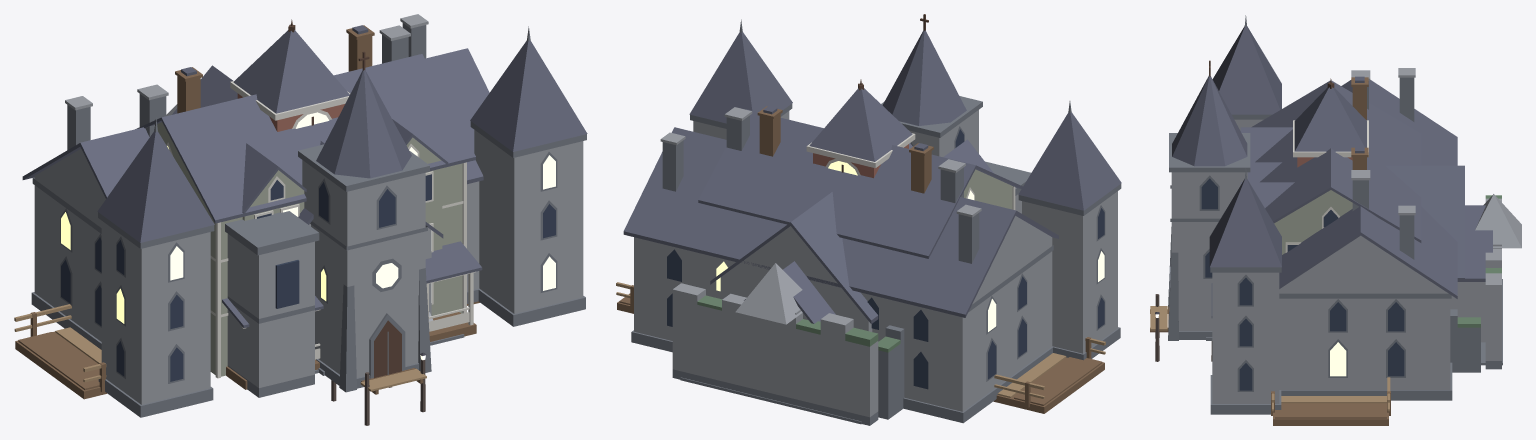
File: models.glb
3 renders of one model, left to right at view 1: azimuth 30°, elevation 25°; view 2: azimuth 150°, elevation 25°; view 3: azimuth 270°, elevation 25°, orthographic. The views are drawn at different scales.
Parts seen in each view (by area): view 1: manor, boarding, church, ruin, tower, bridge, dock; view 2: manor, ruin, boarding, church, tower, bridge; view 3: manor, church, boarding, ruin, tower, bridge, dock.
Boxes of the visible parts, bbox=[...] form: manor: bbox=[22, 14, 587, 417]; boarding: bbox=[135, 25, 482, 389]; church: bbox=[172, 51, 443, 392]; ruin: bbox=[166, 104, 464, 397]; tower: bbox=[230, 19, 350, 131]; bridge: bbox=[14, 301, 479, 399]; dock: bbox=[331, 352, 426, 425]; manor: bbox=[623, 19, 1121, 423]; ruin: bbox=[672, 161, 1031, 425]; boarding: bbox=[698, 106, 1022, 258]; church: bbox=[710, 14, 982, 331]; tower: bbox=[806, 79, 915, 178]; bridge: bbox=[616, 282, 1105, 413]; manor: bbox=[1206, 15, 1457, 414]; church: bbox=[1168, 60, 1492, 342]; boarding: bbox=[1211, 76, 1421, 317]; ruin: bbox=[1450, 194, 1521, 372]; tower: bbox=[1293, 78, 1368, 167]; bridge: bbox=[1271, 377, 1390, 425]; dock: bbox=[1150, 294, 1212, 361].
Bounding box in the file's own units: 26 × 18.02 × 20.56.
